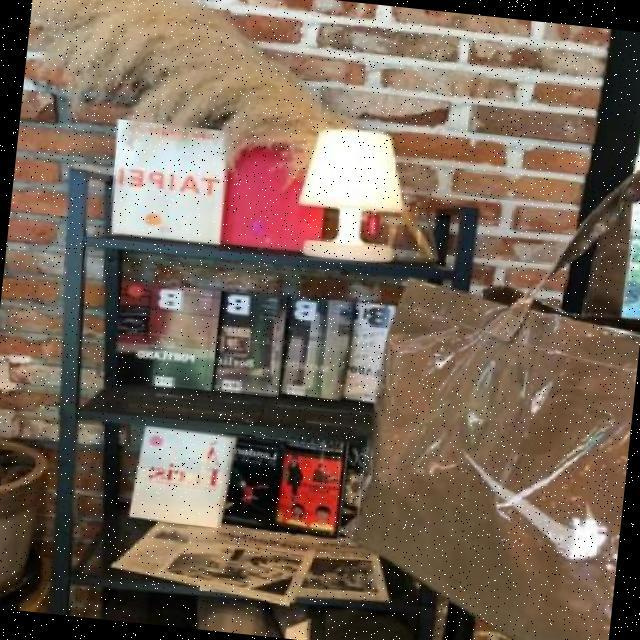Nike: (450, 448, 612, 561)
